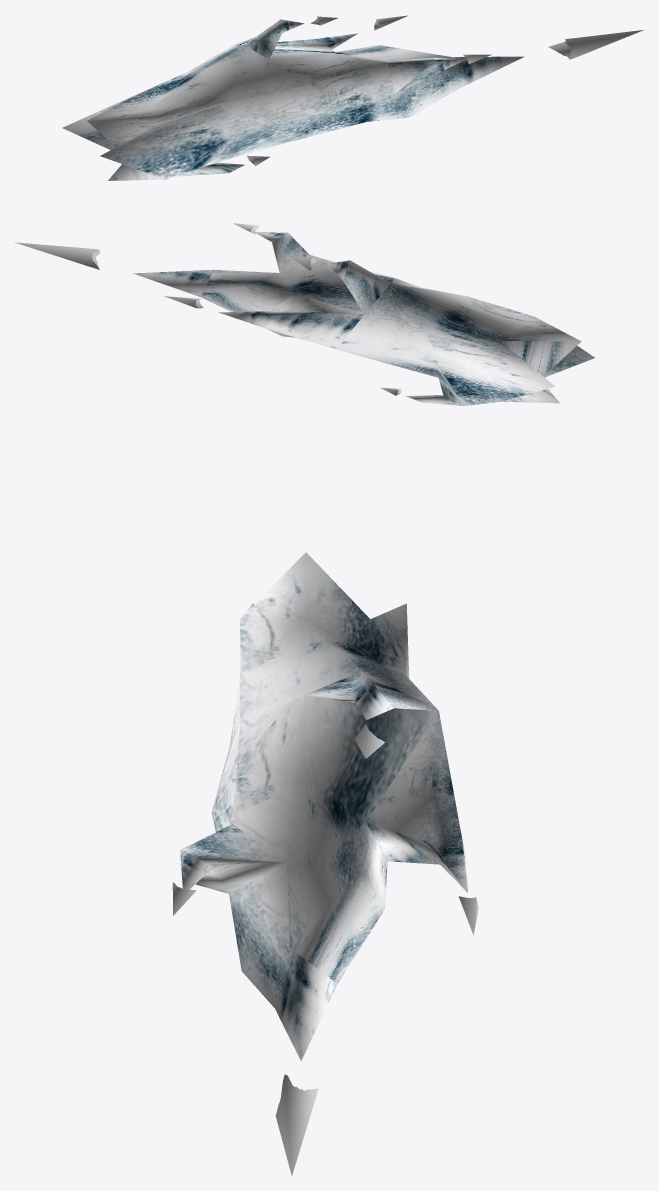
The model's file is iceshard.glb.
3 renders of one model, top to bottom at view 1: azimuth 30°, elevation 25°; view 2: azimuth 150°, elevation 25°; view 3: azimuth 270°, elevation 25°, orthographic. The views are drawn at different scales.
Visible parts, largest first — view 1: iceshard_1, iceshard_0; view 2: iceshard_1, iceshard_0; view 3: iceshard_1, iceshard_0.
Part boxes in pixels (x1,y1,x2,y2): iceshard_1: (62,19,524,180); iceshard_0: (247,15,643,165); iceshard_1: (133,232,594,406); iceshard_0: (14,223,401,395); iceshard_1: (180,552,467,1060); iceshard_0: (172,723,478,1175).
Size of the model in its own units: 27.34 by 6.03 by 6.23.
2 materials, 2 textured.
